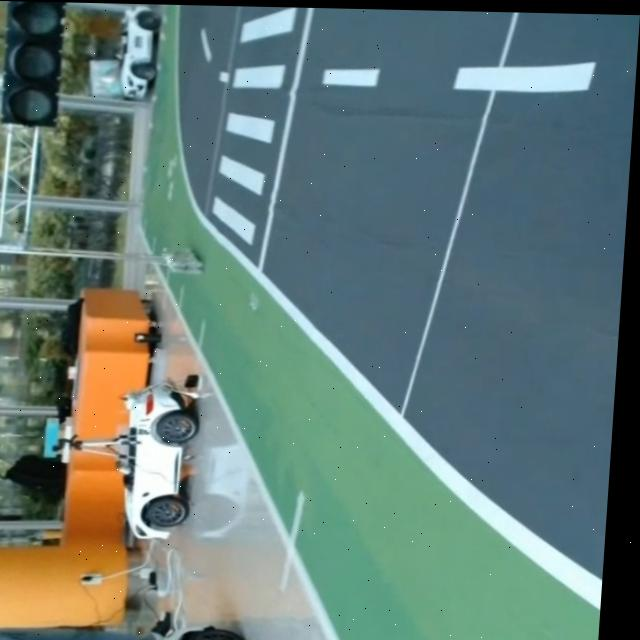traffic-light: (0, 0, 71, 134)
